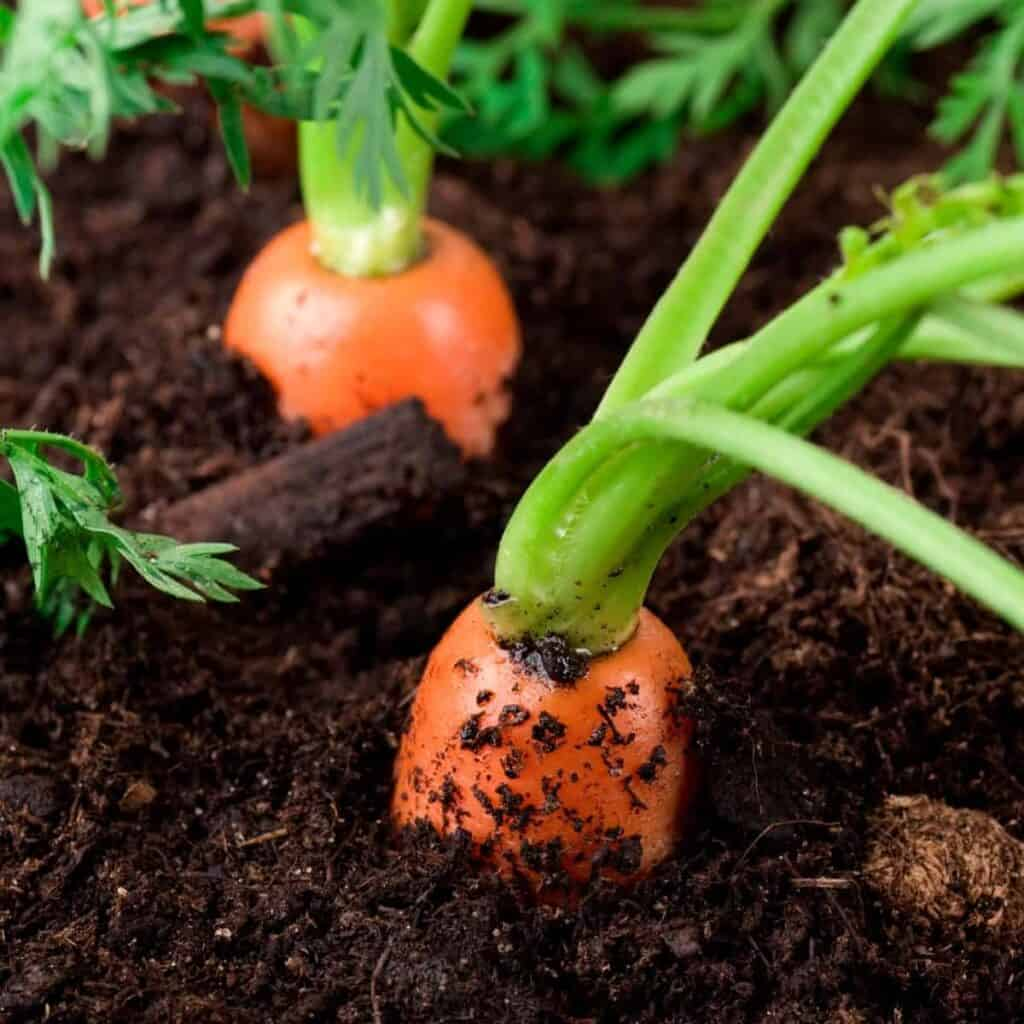carrot: (398, 452, 858, 955)
